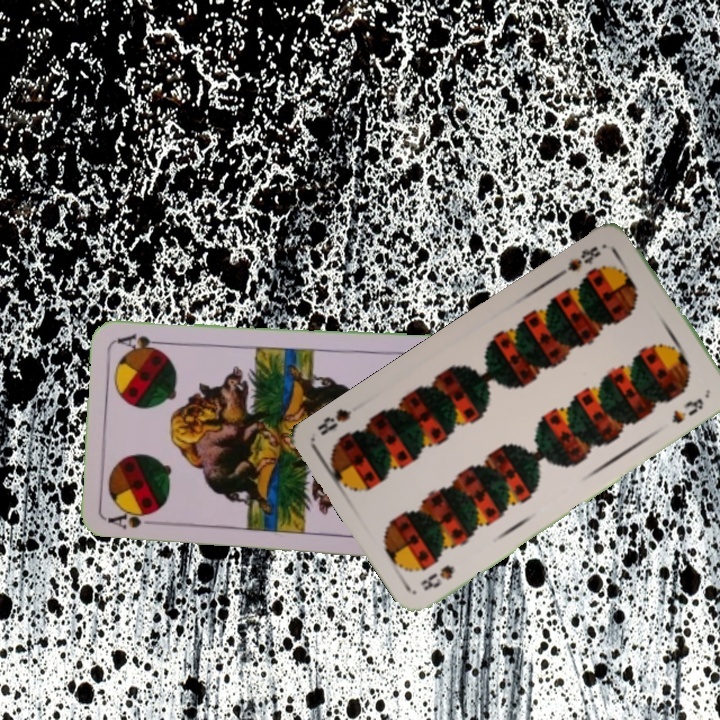S8: (556, 242, 604, 278), (416, 561, 457, 594)
SA: (104, 509, 164, 531)
